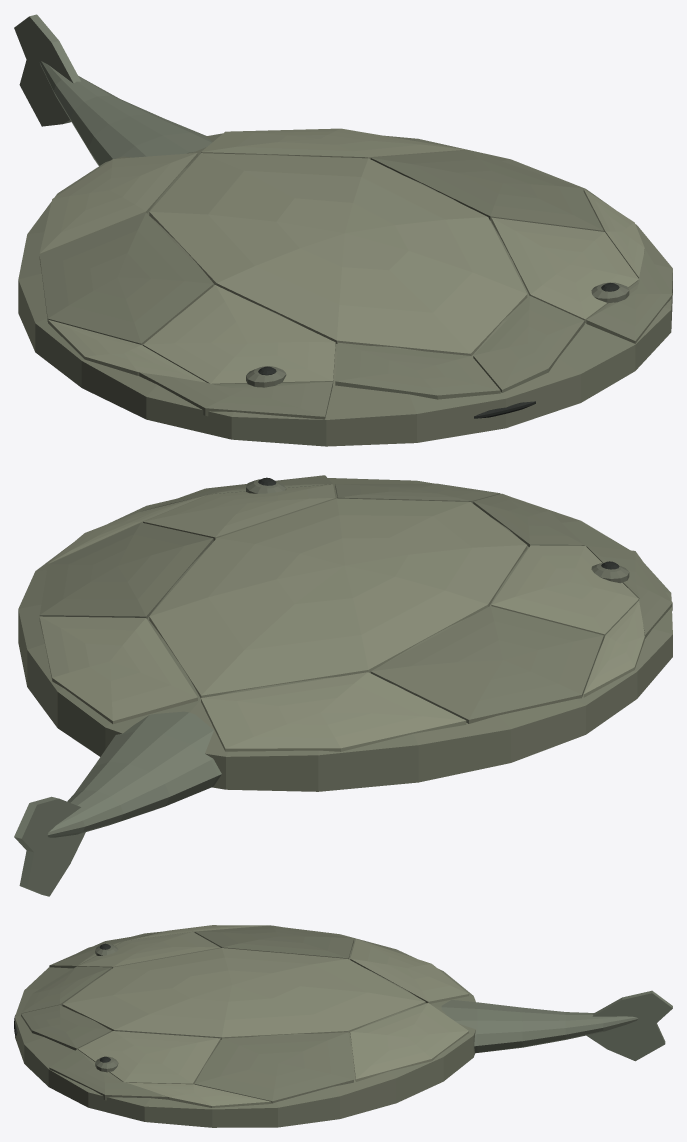
3 views of the same model, one above another, from view 1: azimuth 30°, elevation 25°; view 2: azimuth 150°, elevation 25°; view 3: azimuth 270°, elevation 25° (orthographic). The views are drawn at different scales.
Parts seen in each view (by area): view 1: broad-central-dorsal-plate, continuous-shield-and-ventral-body, left-marginal-armor-03, left-marginal-armor-02, right-marginal-armor-03, right-marginal-armor-02, left-marginal-armor-04, short-armored-tail-peduncle, left-marginal-armor-01, right-marginal-armor-01, right-marginal-armor-04, left-marginal-armor-05 (+4 smaller); view 2: broad-central-dorsal-plate, continuous-shield-and-ventral-body, left-marginal-armor-03, left-marginal-armor-04, right-marginal-armor-04, short-armored-tail-peduncle, right-marginal-armor-03, left-marginal-armor-02, right-marginal-armor-02, small-median-caudal-fin, left-marginal-armor-01, left-marginal-armor-06 (+4 smaller); view 3: broad-central-dorsal-plate, continuous-shield-and-ventral-body, right-marginal-armor-03, short-armored-tail-peduncle, right-marginal-armor-04, right-marginal-armor-02, small-median-caudal-fin, left-marginal-armor-03, left-marginal-armor-04, left-marginal-armor-02, right-marginal-armor-01, right-marginal-armor-05 (+4 smaller).
Boxes of the visible parts, bbox=[...] form: broad-central-dorsal-plate: bbox=[149, 153, 527, 355]; continuous-shield-and-ventral-body: bbox=[18, 133, 672, 446]; left-marginal-armor-03: bbox=[39, 213, 213, 345]; left-marginal-armor-02: bbox=[143, 285, 335, 384]; right-marginal-armor-03: bbox=[370, 150, 603, 231]; right-marginal-armor-02: bbox=[491, 217, 638, 323]; left-marginal-armor-04: bbox=[39, 153, 197, 254]; short-armored-tail-peduncle: bbox=[39, 61, 212, 165]; left-marginal-armor-01: bbox=[335, 342, 500, 399]; right-marginal-armor-01: bbox=[473, 296, 584, 392]; right-marginal-armor-04: bbox=[201, 128, 466, 159]; left-marginal-armor-05: bbox=[139, 372, 332, 419]; broad-central-dorsal-plate: bbox=[149, 498, 527, 698]; continuous-shield-and-ventral-body: bbox=[18, 478, 672, 791]; left-marginal-armor-03: bbox=[370, 606, 603, 723]; left-marginal-armor-04: bbox=[201, 672, 466, 751]; right-marginal-armor-04: bbox=[39, 616, 197, 723]; short-armored-tail-peduncle: bbox=[47, 711, 221, 837]; right-marginal-armor-03: bbox=[39, 522, 213, 618]; left-marginal-armor-02: bbox=[491, 545, 638, 638]; right-marginal-armor-02: bbox=[143, 484, 335, 540]; small-median-caudal-fin: bbox=[14, 796, 85, 896]; left-marginal-armor-01: bbox=[473, 493, 584, 546]; left-marginal-armor-06: bbox=[583, 601, 644, 697]; broad-central-dorsal-plate: bbox=[62, 948, 425, 1039]; continuous-shield-and-ventral-body: bbox=[15, 927, 475, 1127]; right-marginal-armor-03: bbox=[194, 1032, 353, 1103]; short-armored-tail-peduncle: bbox=[441, 1000, 637, 1053]; right-marginal-armor-04: bbox=[350, 1003, 468, 1081]; right-marginal-armor-02: bbox=[78, 1031, 220, 1084]; small-median-caudal-fin: bbox=[586, 990, 672, 1061]; left-marginal-armor-03: bbox=[194, 925, 353, 959]; left-marginal-armor-04: bbox=[350, 939, 468, 1003]; left-marginal-armor-02: bbox=[78, 932, 220, 968]; right-marginal-armor-01: bbox=[21, 1005, 111, 1050]; right-marginal-armor-05: bbox=[49, 1049, 167, 1100].
Bounding box in the file's own units: 0.23 × 0.044 × 0.3504.
